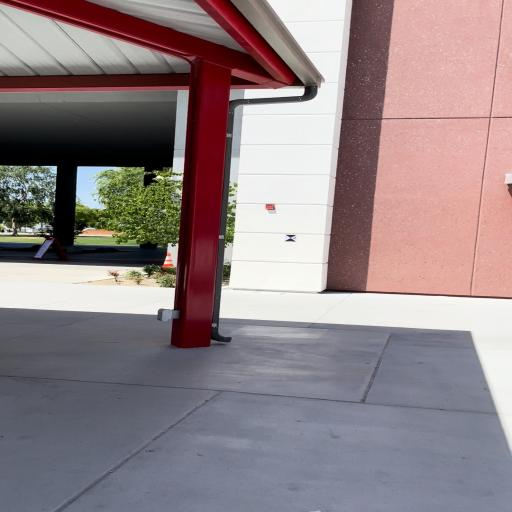target2: (284, 234, 297, 242)
